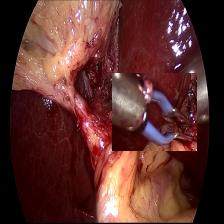Bipolar: (112, 73, 197, 151)
